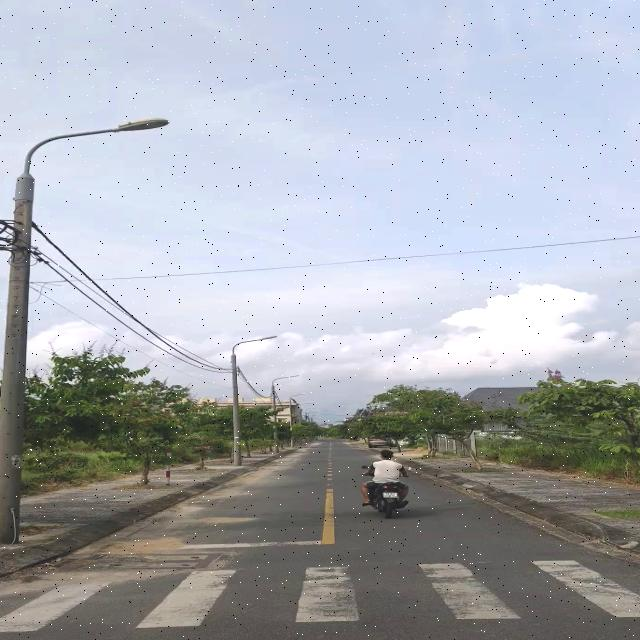no_helmet: (376, 447, 398, 462)
